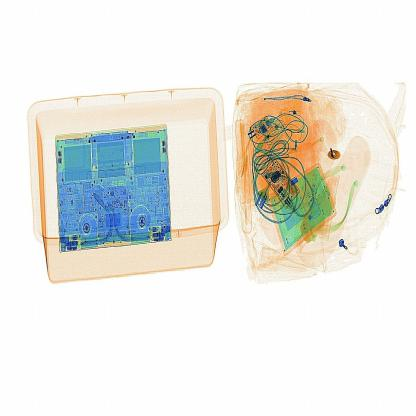wrench: (324, 140, 348, 166)
